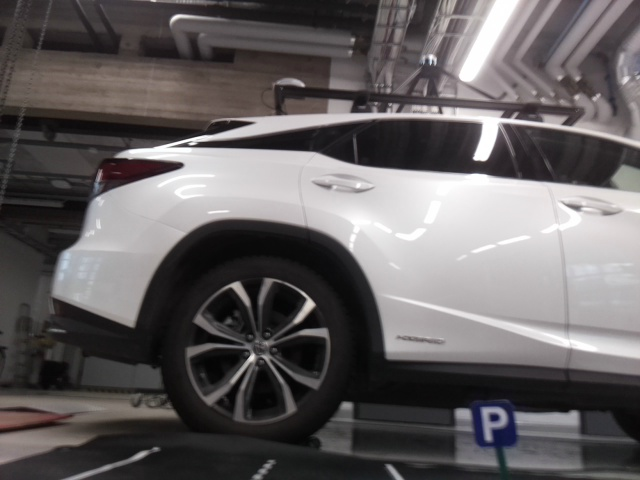Parking: (470, 402, 516, 448)
